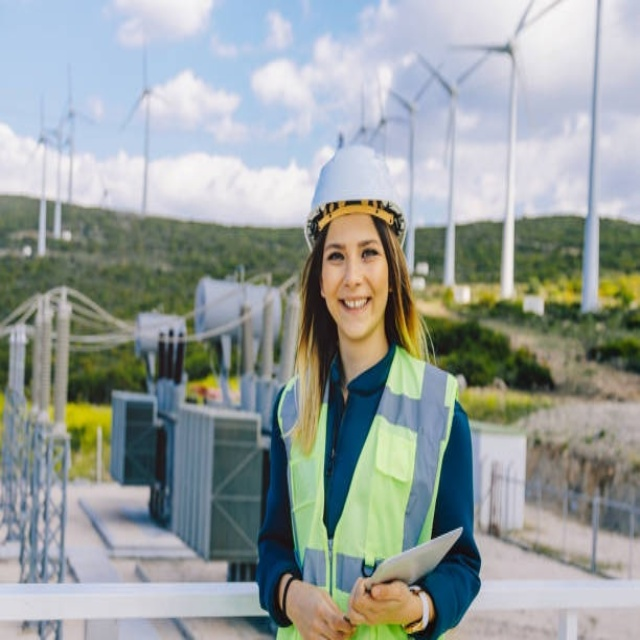Sin_gafas: (324, 240, 384, 270)
Sin_guantes: (289, 578, 357, 640), (348, 576, 419, 632)
Sin_mascara: (334, 287, 378, 329)
